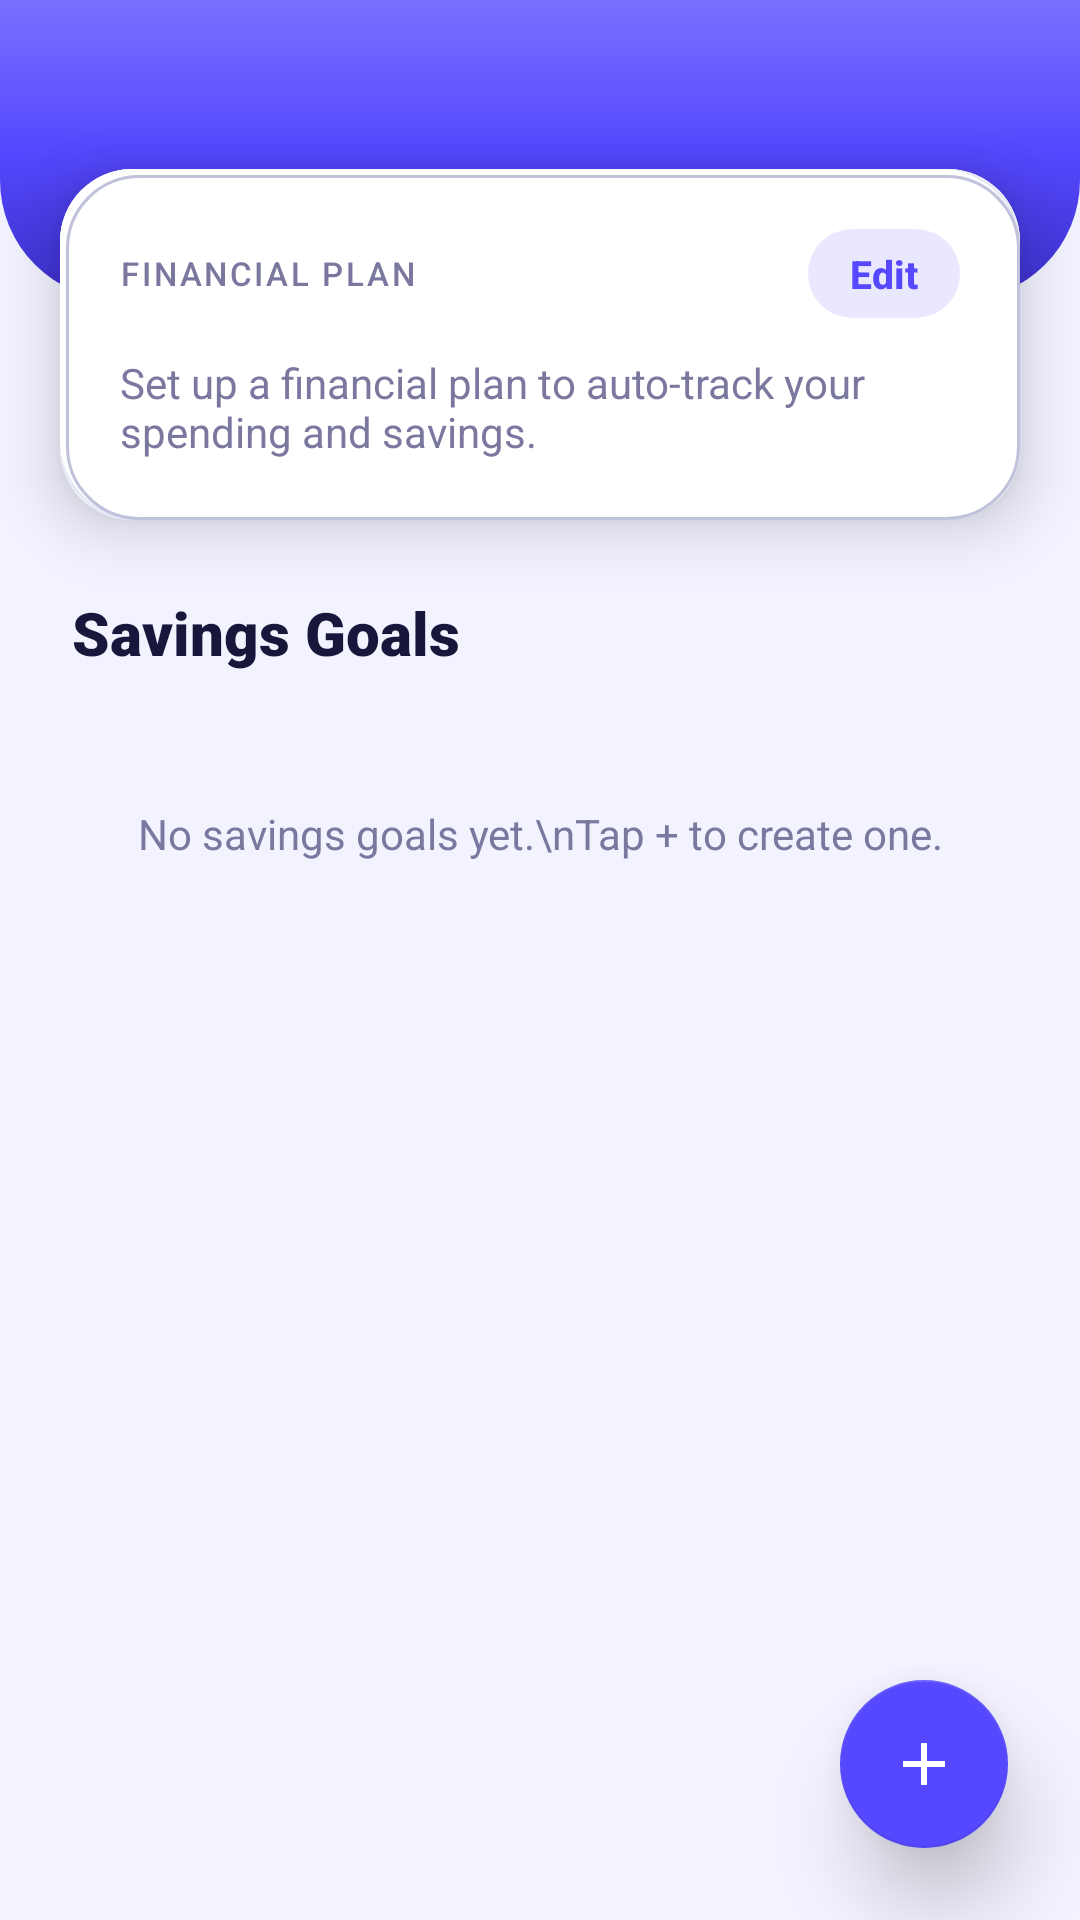

Where to tap for icons on this 1080 × 1920 app screen, as point (x, y):
plus: point (924, 1764)
